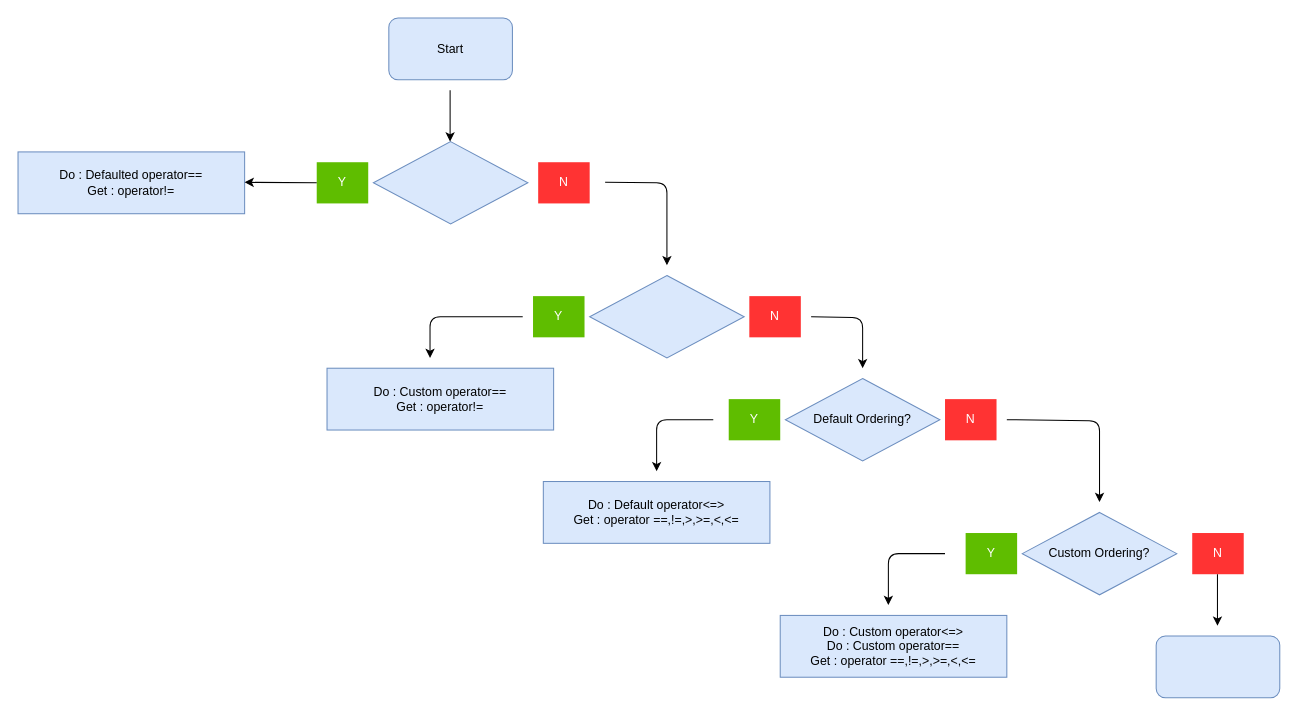
Some shapes in this 1298 by 716 pixel diagram are drawn without their labels. The centre of each missing label's shape, as x and y in pixels:
"Custom Equality?" belongs at (x=666, y=316).
"Default Equality?" belongs at (x=450, y=182).
"End" belongs at (x=1217, y=666).
